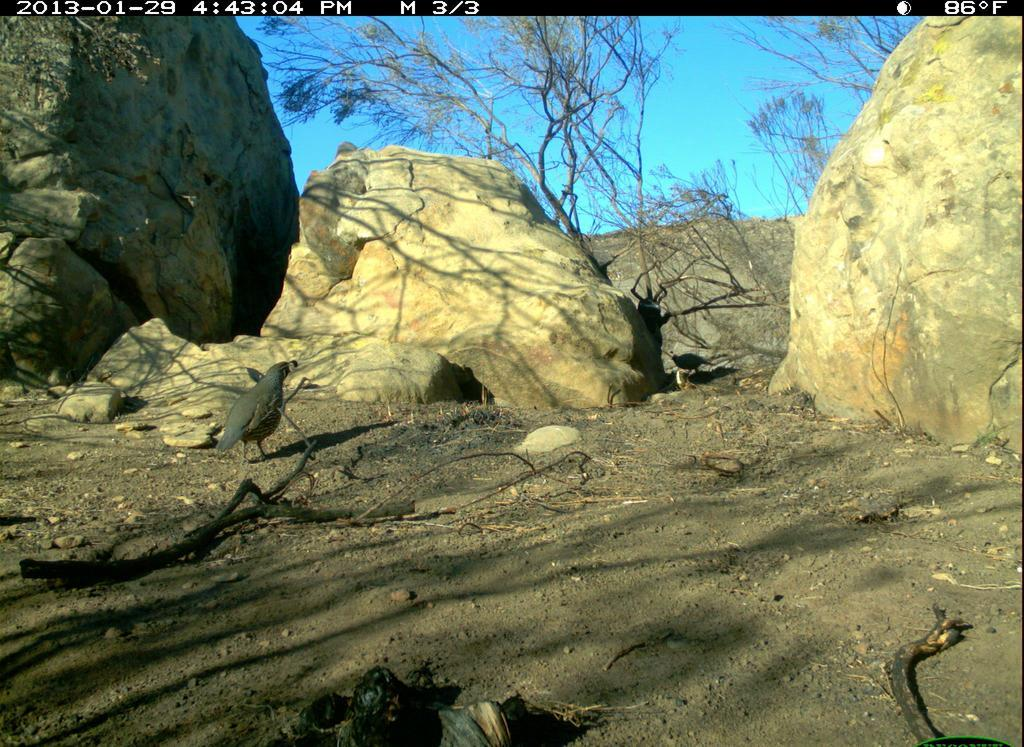bird: (212, 353, 308, 470)
